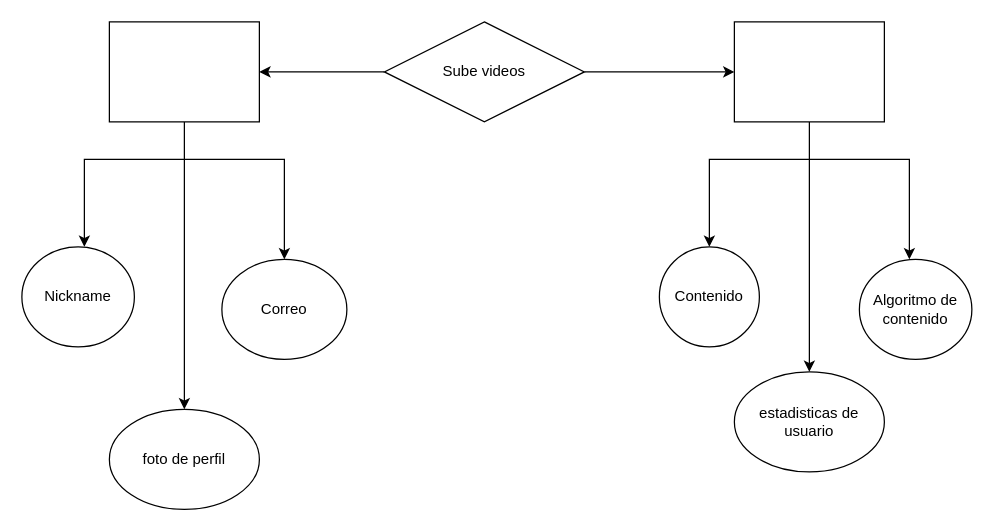
The diagram is 994 pixels wide and 531 high, and some of its shapes have lost their labels. Each missing label, with the centre of its shape:
Cuenta de tik tok: the point at 808,71
Usuario: the point at 183,71
